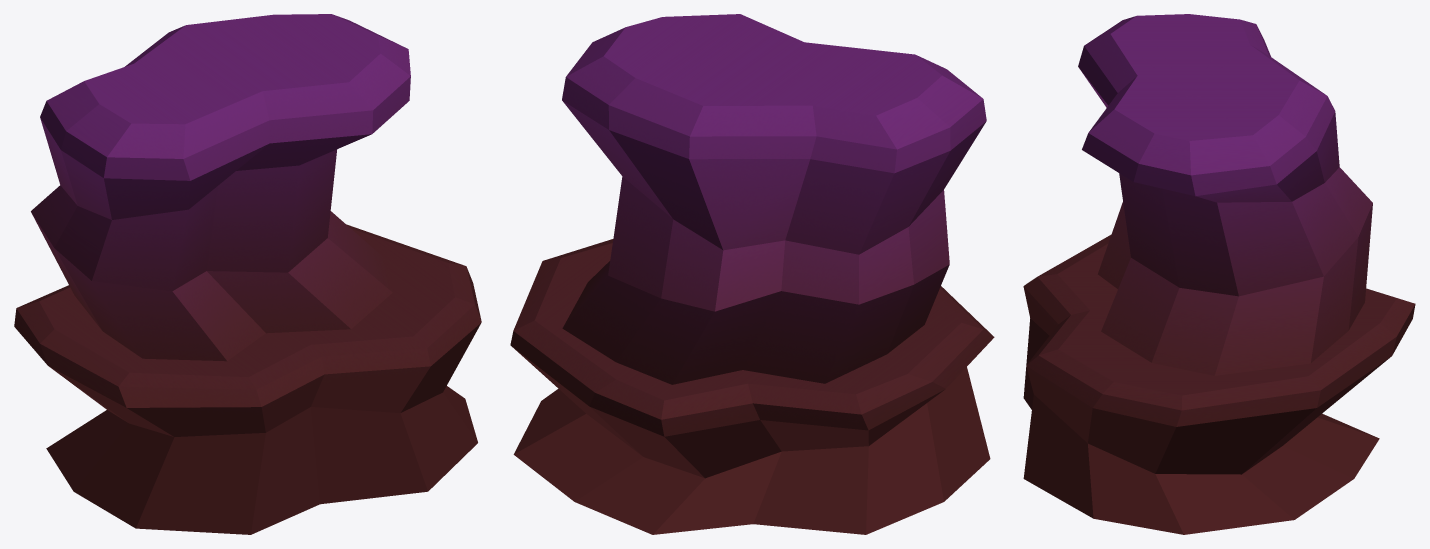
File: MOD_BigRock1.fbx
3 views of the same model, side by side, from view 1: azimuth 30°, elevation 25°; view 2: azimuth 150°, elevation 25°; view 3: azimuth 270°, elevation 25° (orthographic). The views are drawn at different scales.
Parts seen in each view (by area): view 1: MOD_BigRock1; view 2: MOD_BigRock1; view 3: MOD_BigRock1.
Part boxes in pixels (bbox=[...]): MOD_BigRock1: bbox=[14, 14, 481, 534]; MOD_BigRock1: bbox=[510, 14, 994, 534]; MOD_BigRock1: bbox=[1023, 14, 1415, 534].
Bounding box in the file's own units: 13.76 × 12.33 × 12.32.
Materials: 1 (1 with a texture image).
